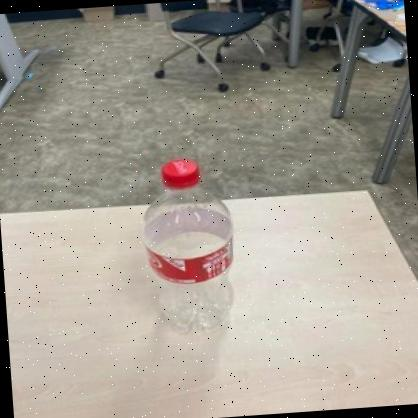bottle: (133, 152, 245, 342)
cap: (155, 154, 205, 194)
label: (130, 230, 242, 288)
